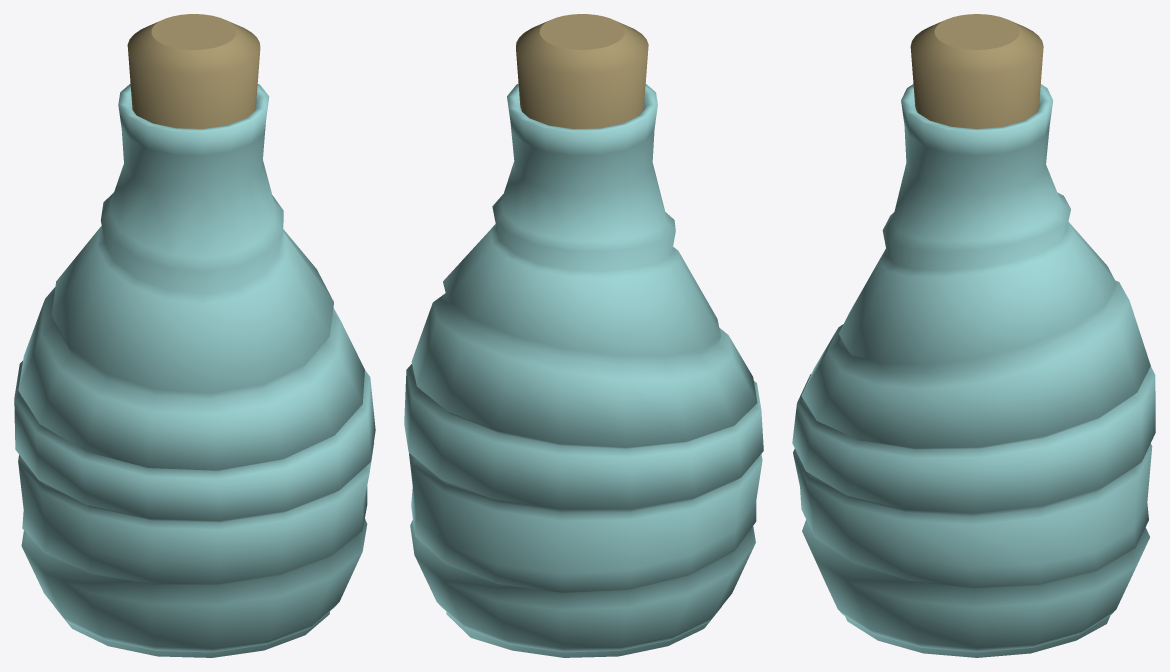
Rendered from Botttle shell1.fbx.
3 views of the same model, side by side, from view 1: azimuth 30°, elevation 25°; view 2: azimuth 150°, elevation 25°; view 3: azimuth 270°, elevation 25° (orthographic).
Visible parts, largest first — view 1: Body Shell.002, Cylinder.001; view 2: Body Shell.002, Cylinder.001; view 3: Body Shell.002, Cylinder.001.
Part boxes in pixels (x1,y1,x2,y2): Body Shell.002: (14,83,375,657); Cylinder.001: (127,14,260,128); Body Shell.002: (404,83,763,657); Cylinder.001: (516,14,648,129); Body Shell.002: (792,84,1155,657); Cylinder.001: (910,14,1043,128).
Bounding box in the file's own units: 186 × 321 × 186.
